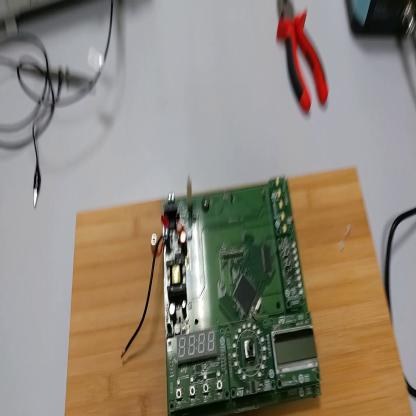low voltage board: (122, 165, 325, 416)
oscilloscope: (2, 3, 69, 34)
oscilloscope probe tip: (17, 60, 97, 93)
pliers: (276, 4, 329, 114)
welder station: (347, 2, 416, 42)
working area: (65, 164, 412, 414)
